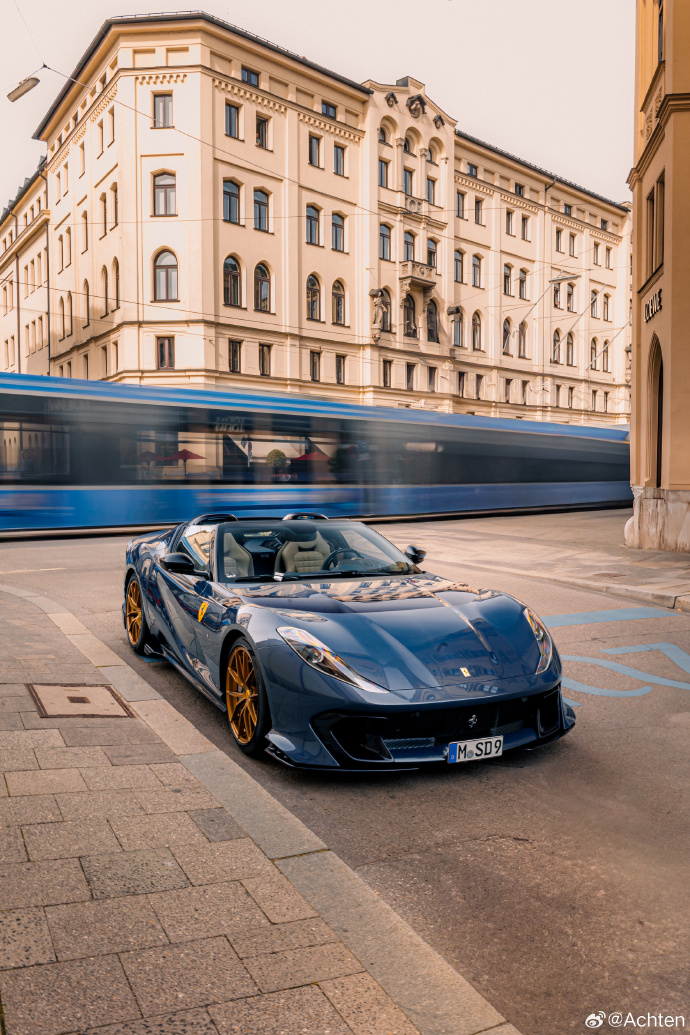su7: (126, 522, 571, 782)
